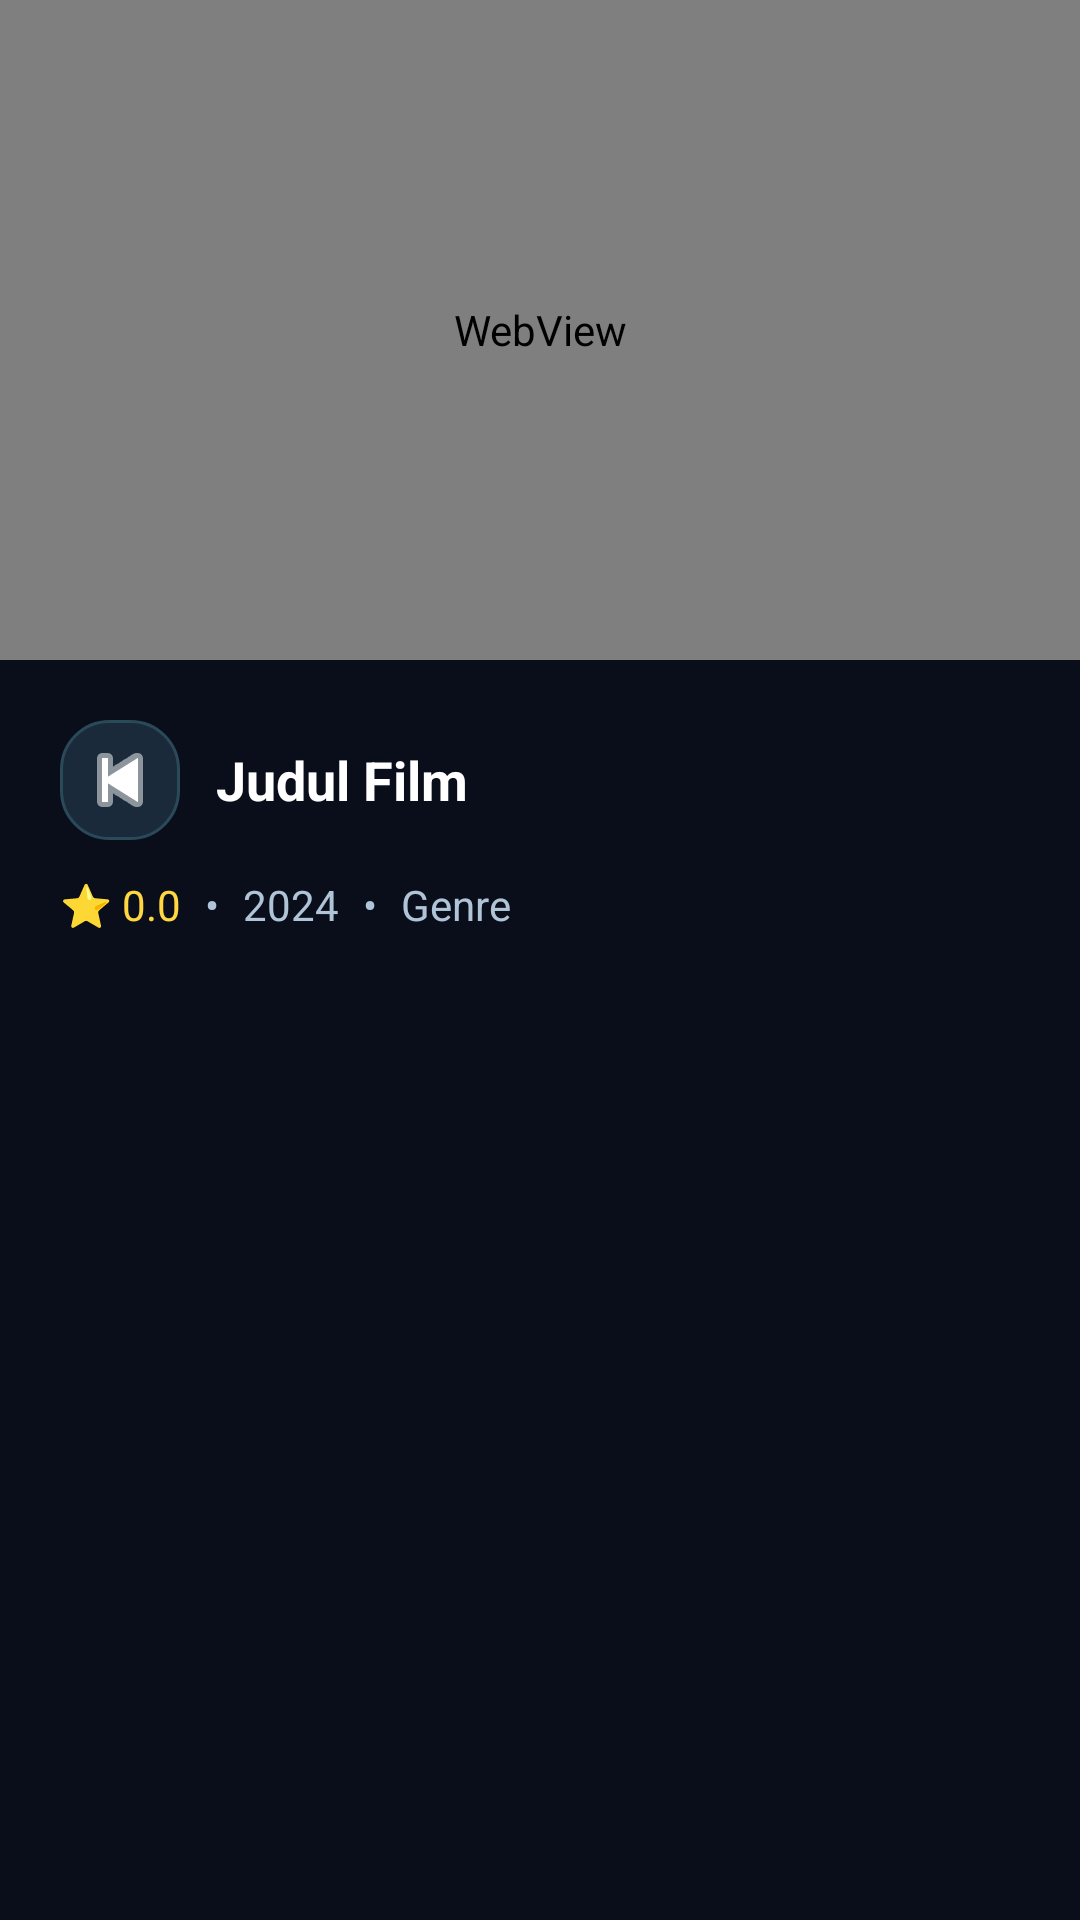

Icons on this 1080×1920 Android screen, each with the point to tap as [x,y]:
previous: [120,780]
